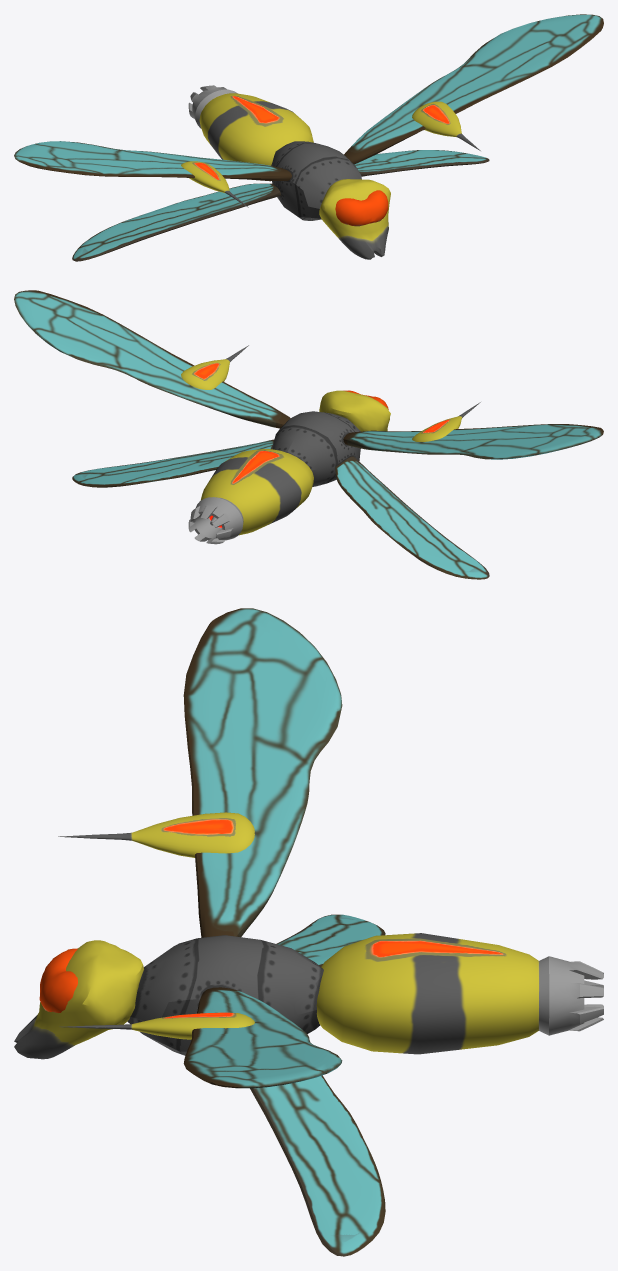
File: GalagaWaspShip_v2.fbx
3 views of the same model, one above another, from view 1: azimuth 30°, elevation 25°; view 2: azimuth 150°, elevation 25°; view 3: azimuth 270°, elevation 25° (orthographic). The views are drawn at different scales.
Parts seen in each view (by area): view 1: WaspShipv2; view 2: WaspShipv2; view 3: WaspShipv2.
Part boxes in pixels (x1,y1,x2,y2): WaspShipv2: (14,14,603,261); WaspShipv2: (14,290,603,579); WaspShipv2: (14,608,603,1256).
Bounding box in the file's own units: 913 × 214 × 475.
